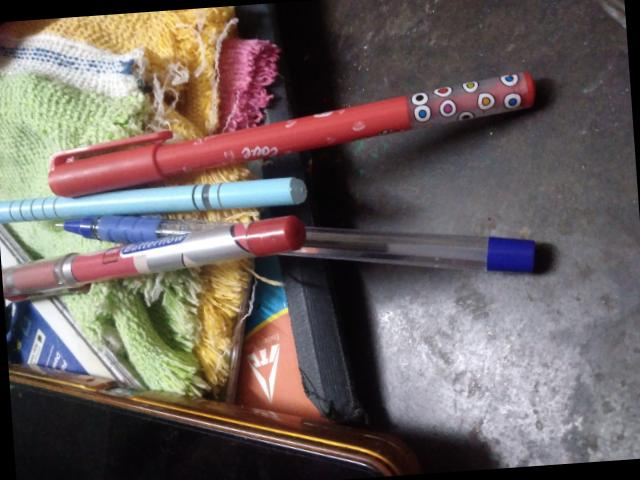PEN: (287, 39, 435, 480), (184, 76, 283, 480), (176, 8, 278, 313), (259, 2, 317, 317)
